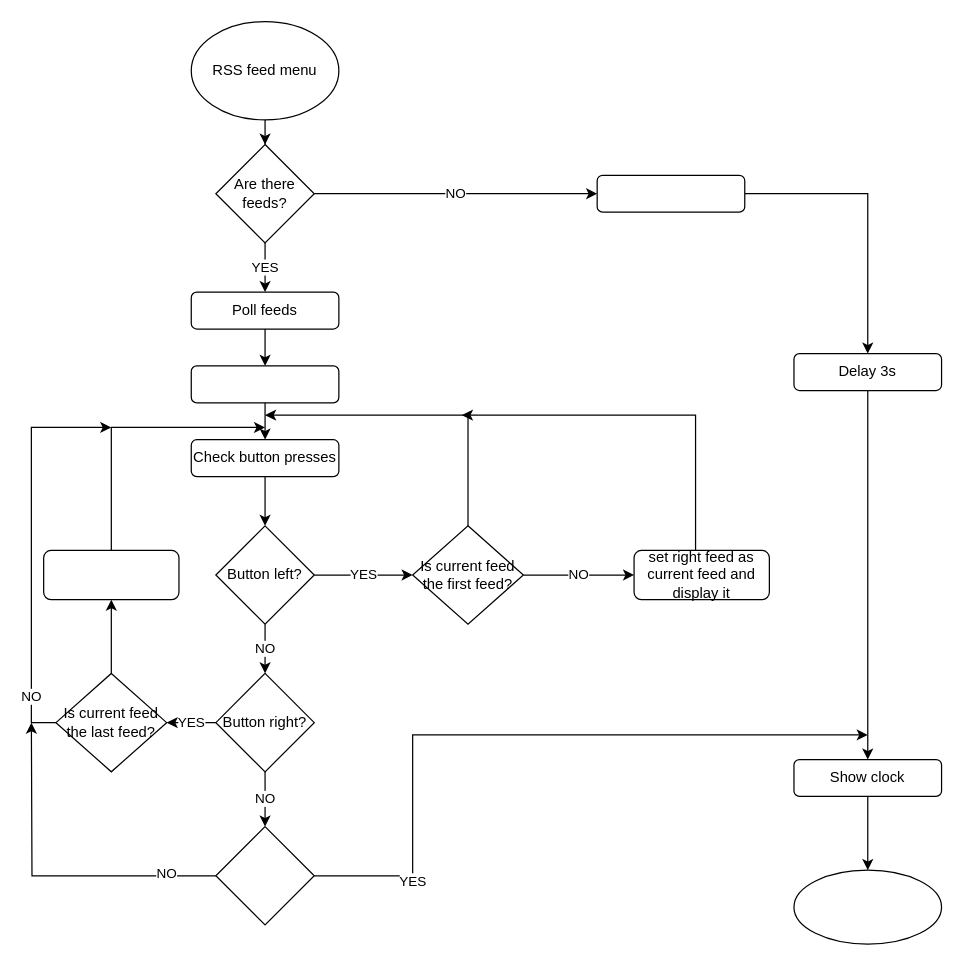
Some shapes in this 963 by 966 pixel diagram are drawn without their labels. Each missing label, with the centre of its shape:
"Button stop" belongs at point 264,875.
"set left feed as current feed and display it" belongs at point 110,574.
"Show error message" belongs at point 670,193.
"Show first feed" belongs at point 264,384.
"STOP" belongs at point 867,906.
